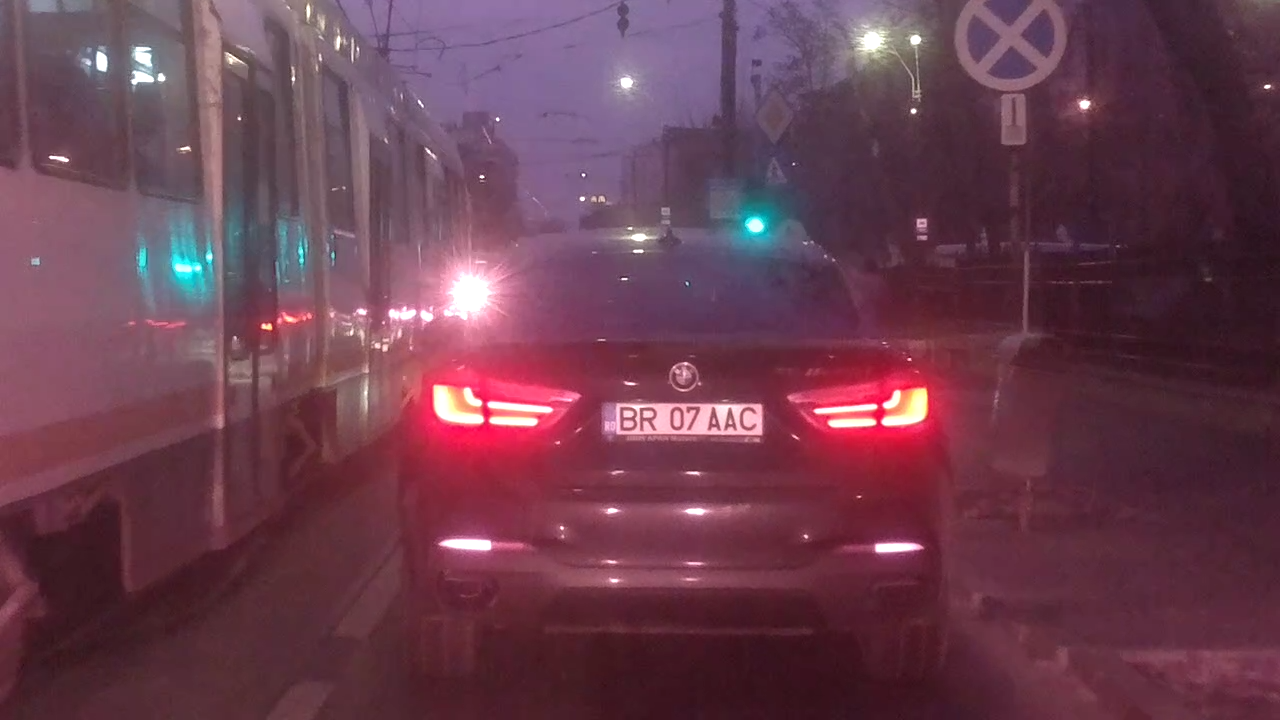license-plate: (596, 398, 767, 439)
